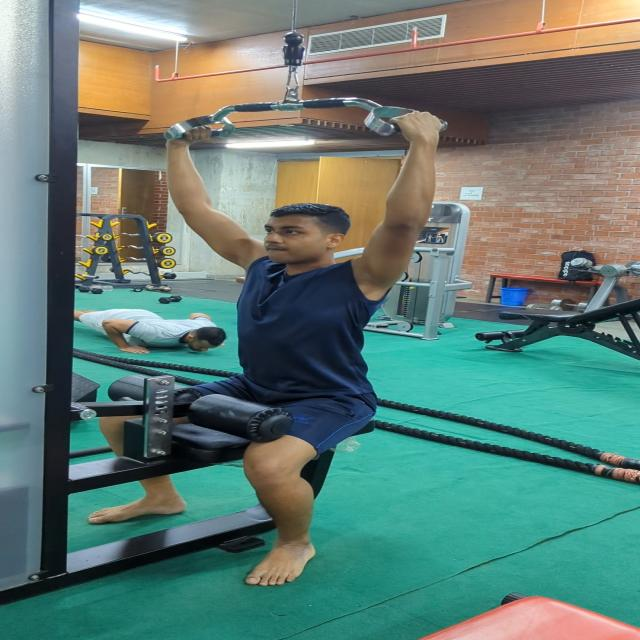Normal_LatPulldown: (80, 109, 459, 594)
